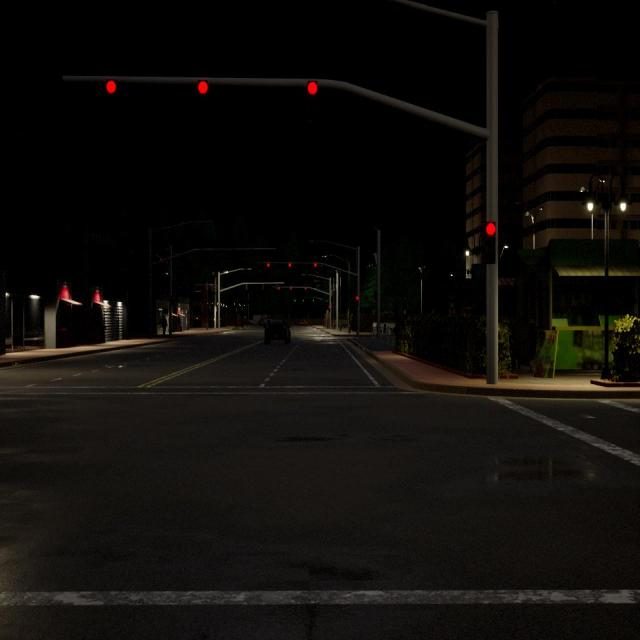Pedestrian: (161, 316, 168, 338)
Vehicle: (264, 321, 291, 347)
traffic_light: (483, 221, 496, 265), (105, 79, 116, 94), (198, 79, 208, 95), (308, 80, 318, 95), (356, 296, 359, 304), (288, 262, 292, 267), (267, 262, 270, 267), (314, 262, 317, 267), (328, 305, 331, 309), (278, 286, 280, 290), (290, 287, 292, 290), (302, 299, 304, 302), (312, 299, 314, 302), (294, 299, 296, 301), (305, 288, 307, 290)
